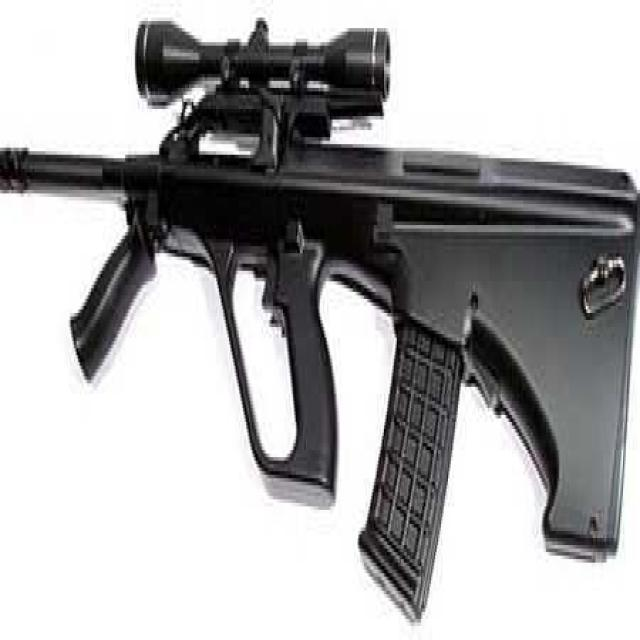RifleTel: (0, 1, 639, 626)
